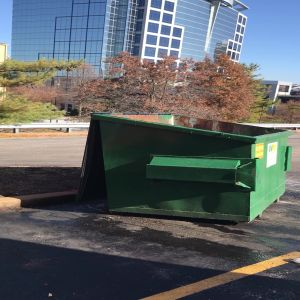Dumpster: (74, 111, 294, 226)
